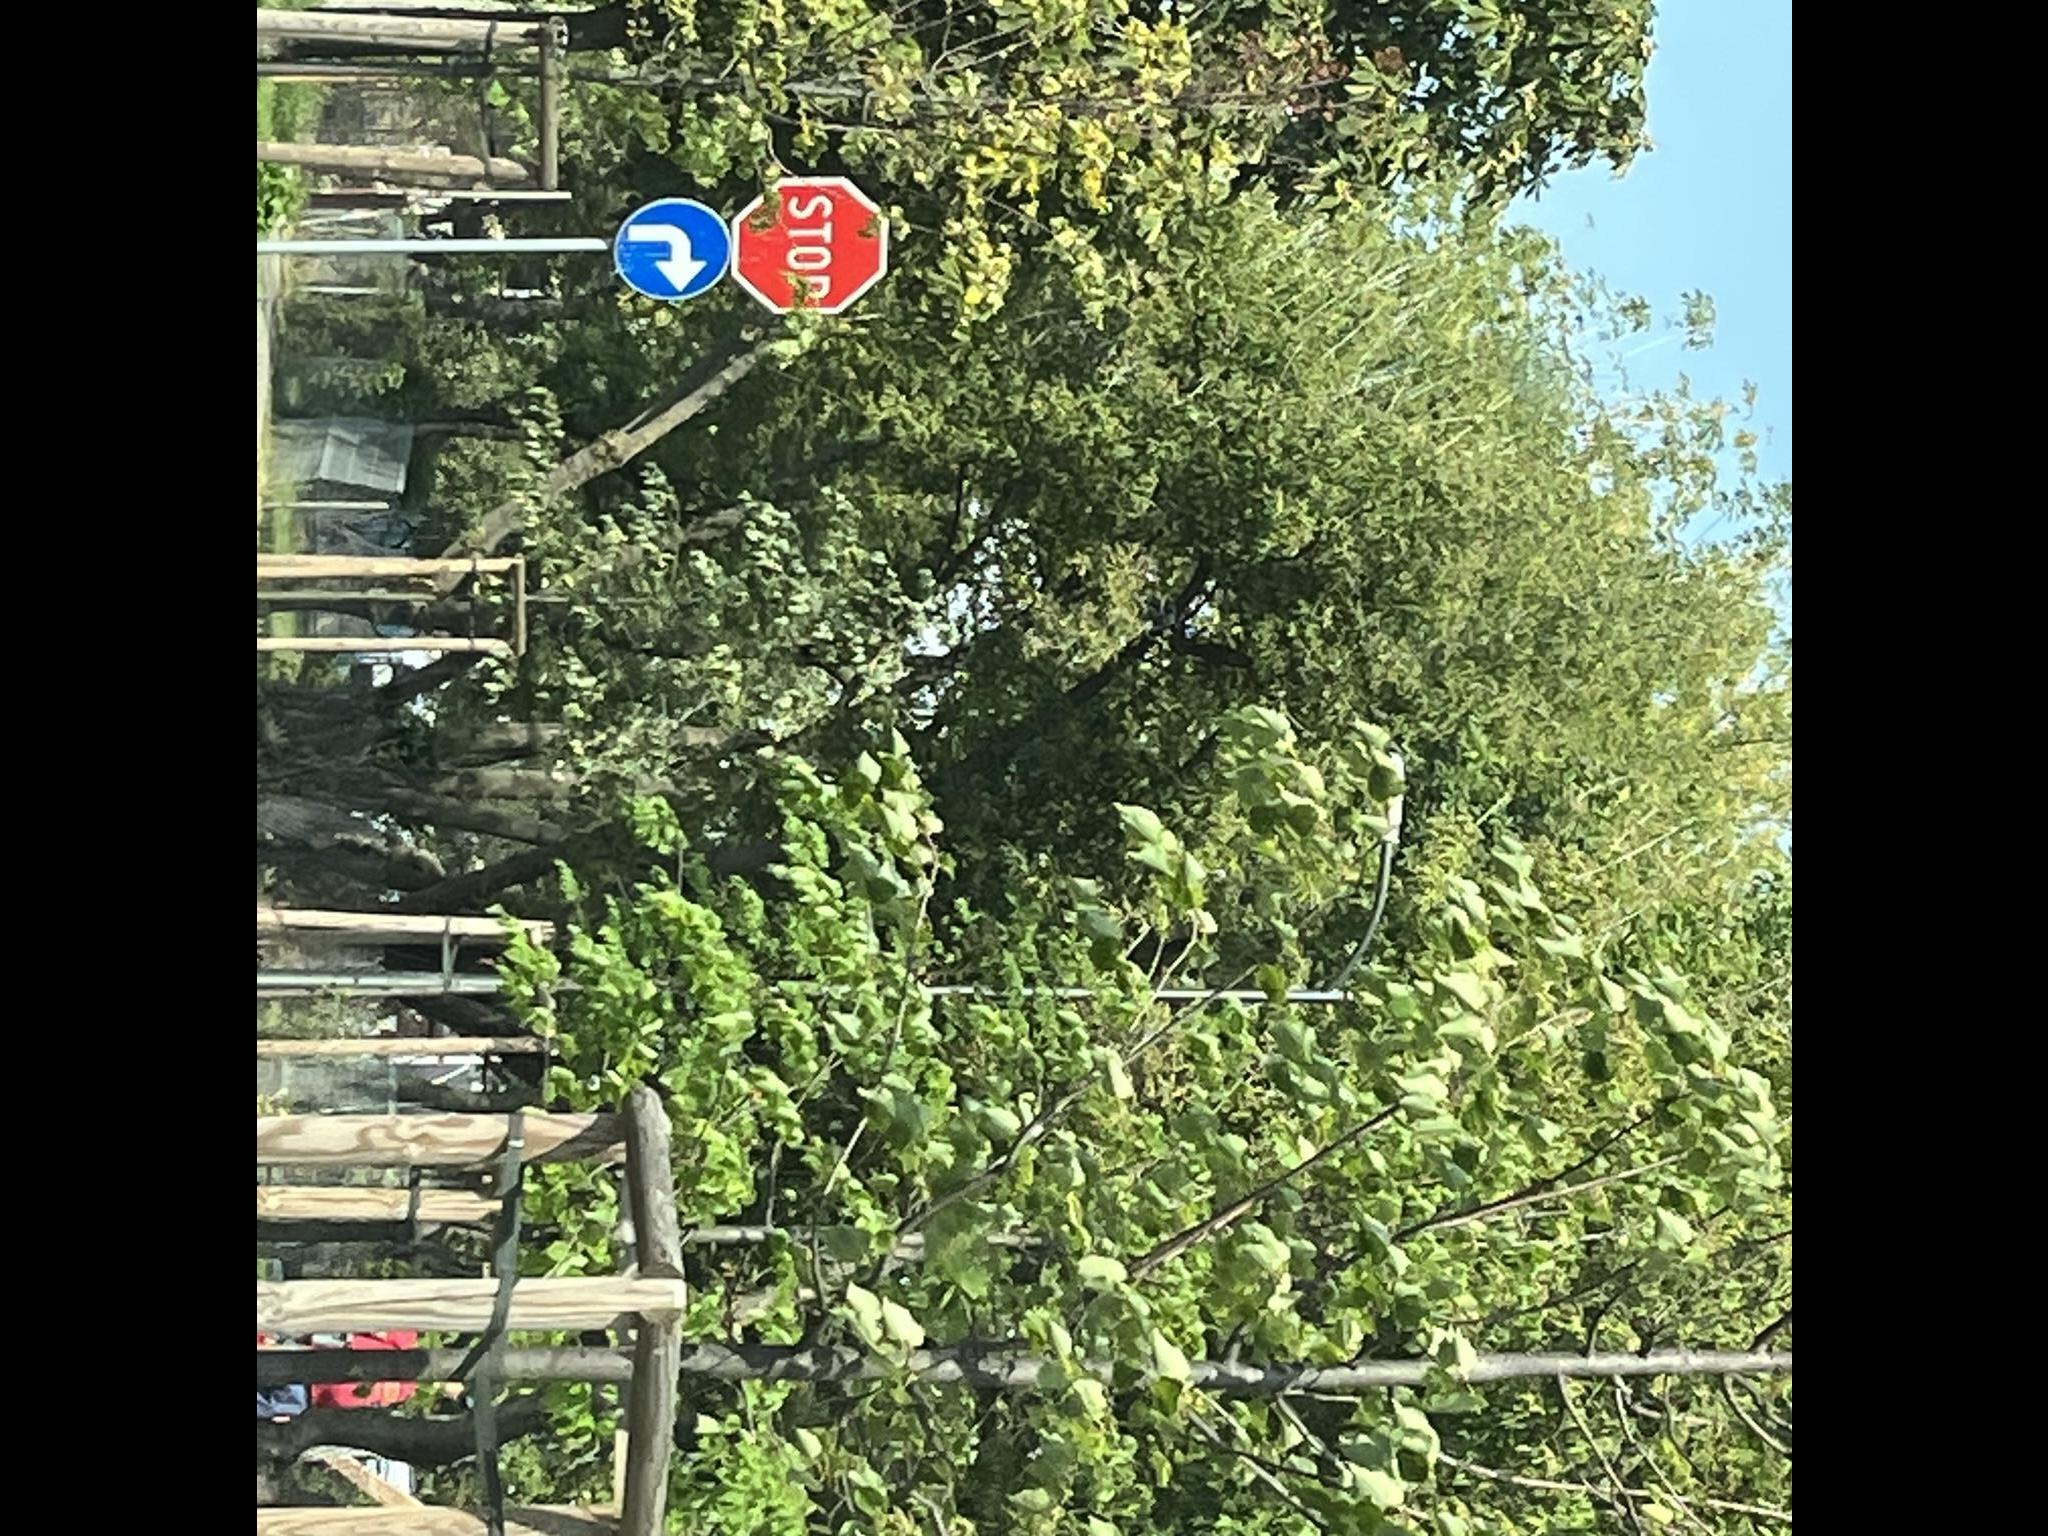mandatory: (610, 197, 731, 302)
prohibitory: (729, 179, 890, 313)
